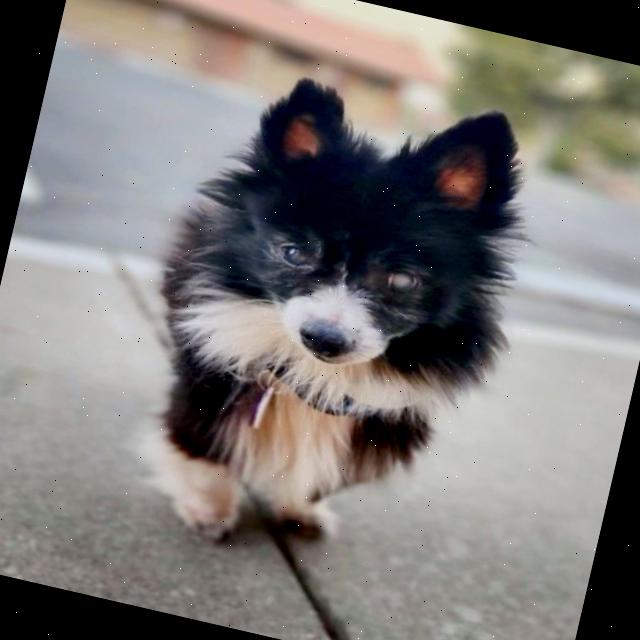pomeranian_dog: (141, 38, 563, 435)
